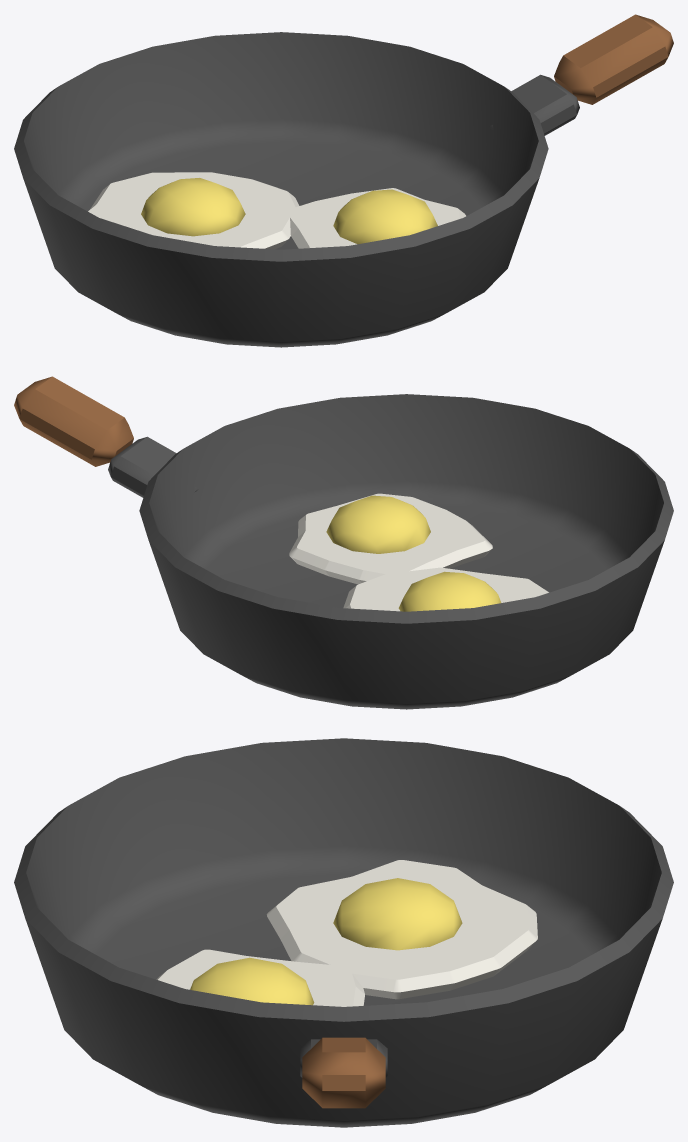
Rendered from cook_fried_egg.glb.
3 renders of one model, top to bottom at view 1: azimuth 30°, elevation 25°; view 2: azimuth 150°, elevation 25°; view 3: azimuth 270°, elevation 25°, orthographic. The views are drawn at different scales.
Parts seen in each view (by area): view 1: body; view 2: body; view 3: body.
Part boxes in pixels (x1=…): body: x1=14, y1=14, x2=673, y2=347; body: x1=14, y1=376, x2=673, y2=709; body: x1=14, y1=738, x2=673, y2=1127.
Bounding box in the file's own units: 0.0651 × 0.015 × 0.049.
